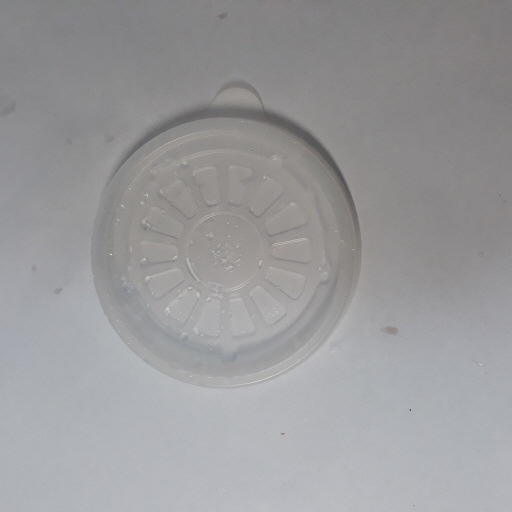Plastic_5: (90, 84, 361, 389)
